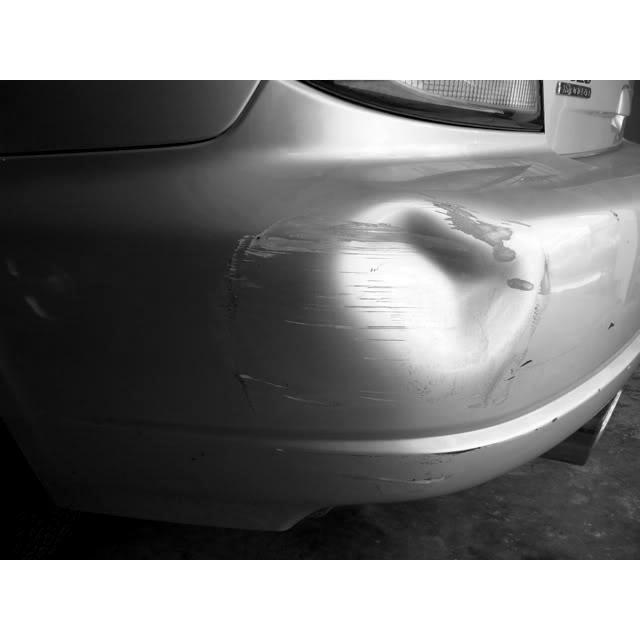rear-bumper-dent: (9, 147, 639, 559)
